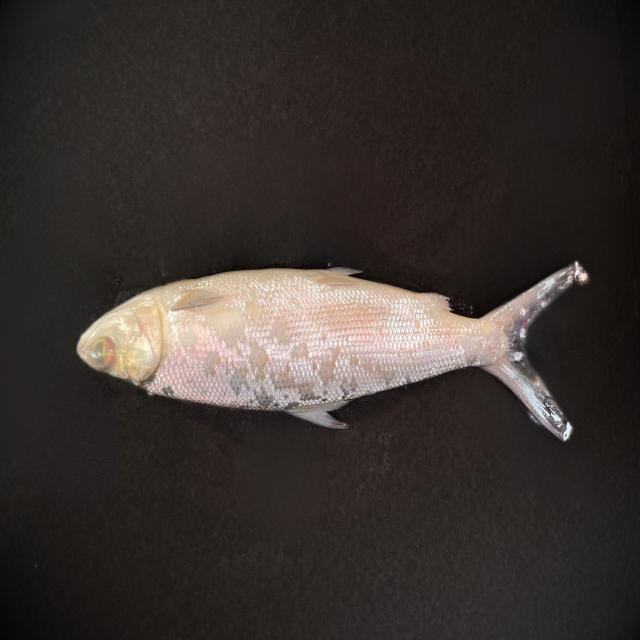700 g: (76, 264, 586, 442)
